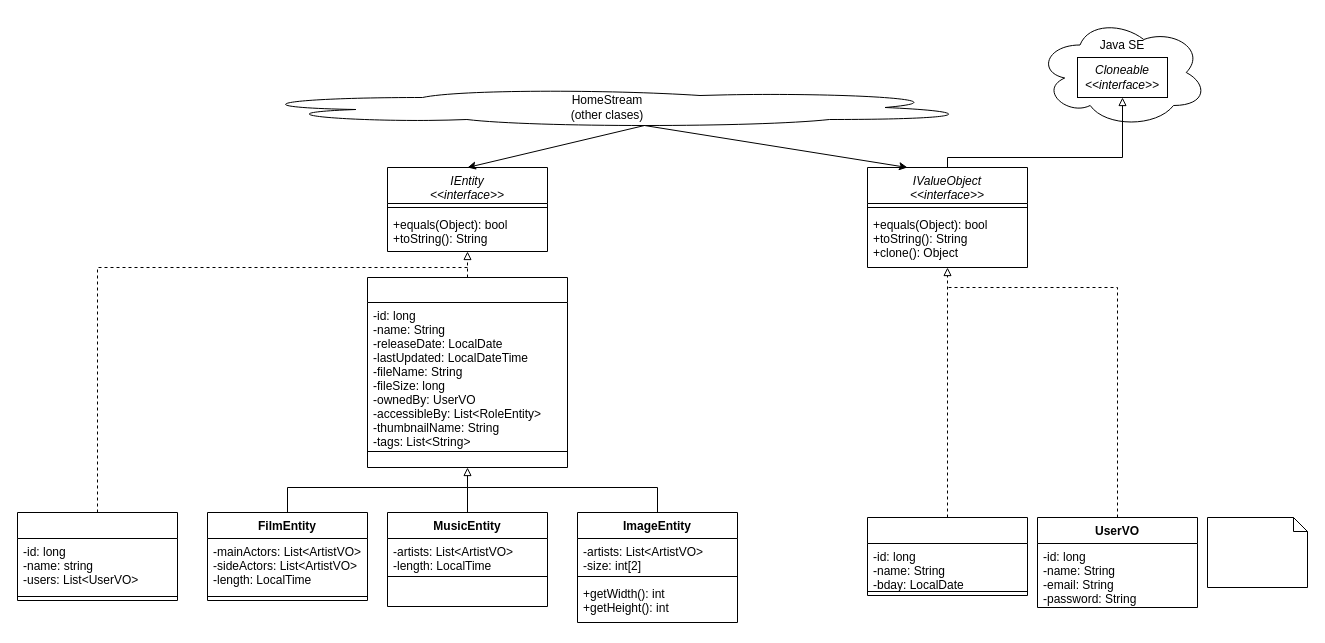
Image size: 1325x643. Some labels were removed from this diagram. Each missing label, with the box of its shape:
ArtistVO: (866, 516, 1028, 596)
MediaEntitiy: (366, 276, 568, 468)
RoleEntity: (16, 512, 178, 600)
UserVO: Store password as hash (obviously): (1206, 516, 1308, 588)
